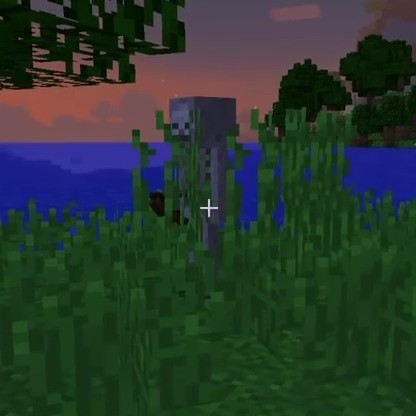skeleton: (165, 96, 238, 189)
